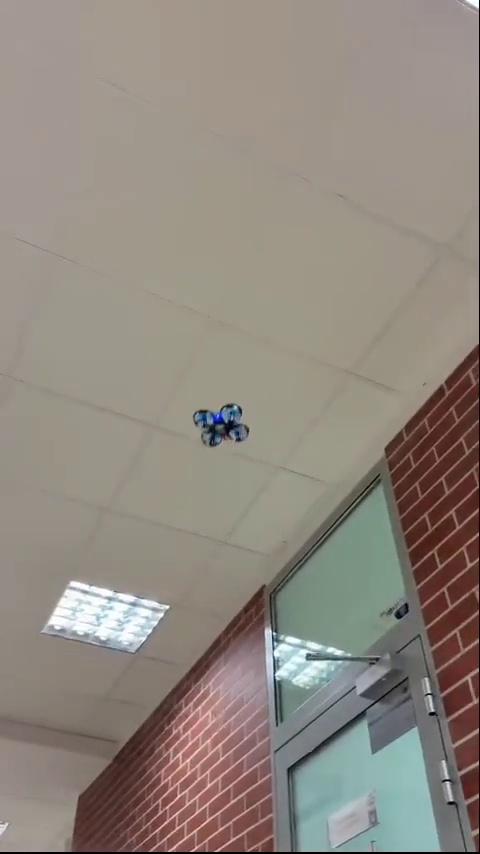drone: (188, 405, 253, 443)
